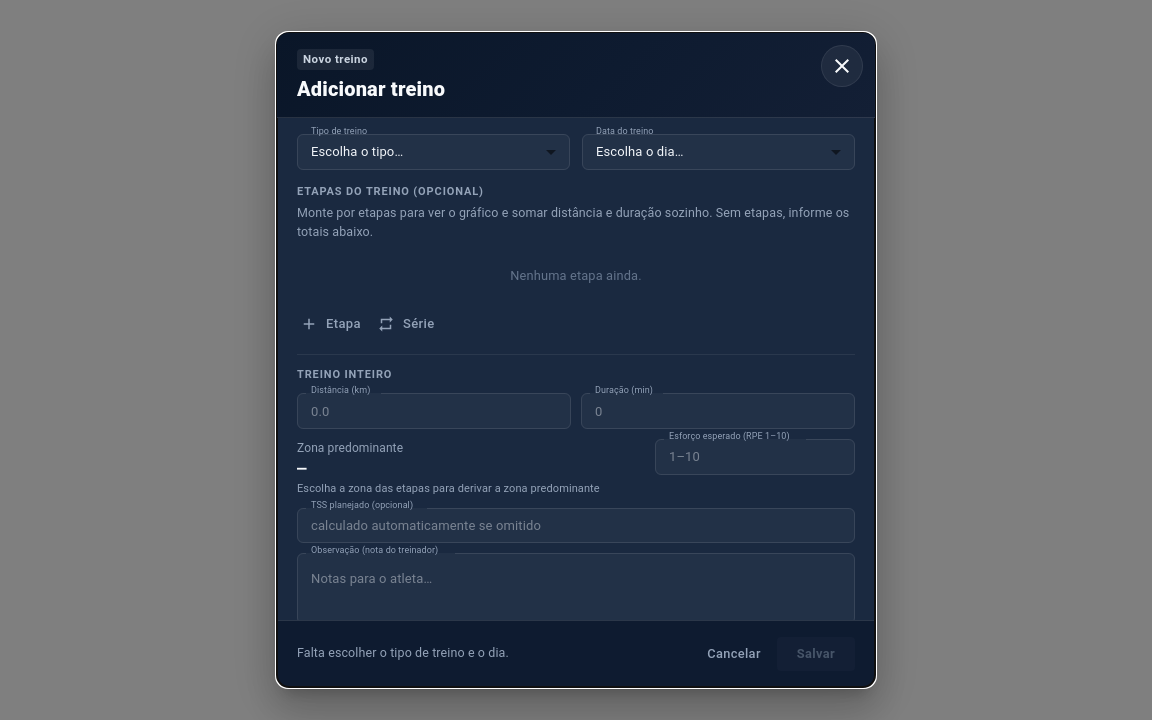
TreinoAddDialog › com etapas, distância e duração do treino somem (vêm da soma); sem etapas, aparecem
Expected: the number field with placeholder "0.0" is shown, x1=297 y1=393 x2=571 y2=429
Click the button "Etapa" at (331, 324), box x1=297 y1=309 x2=366 y2=340
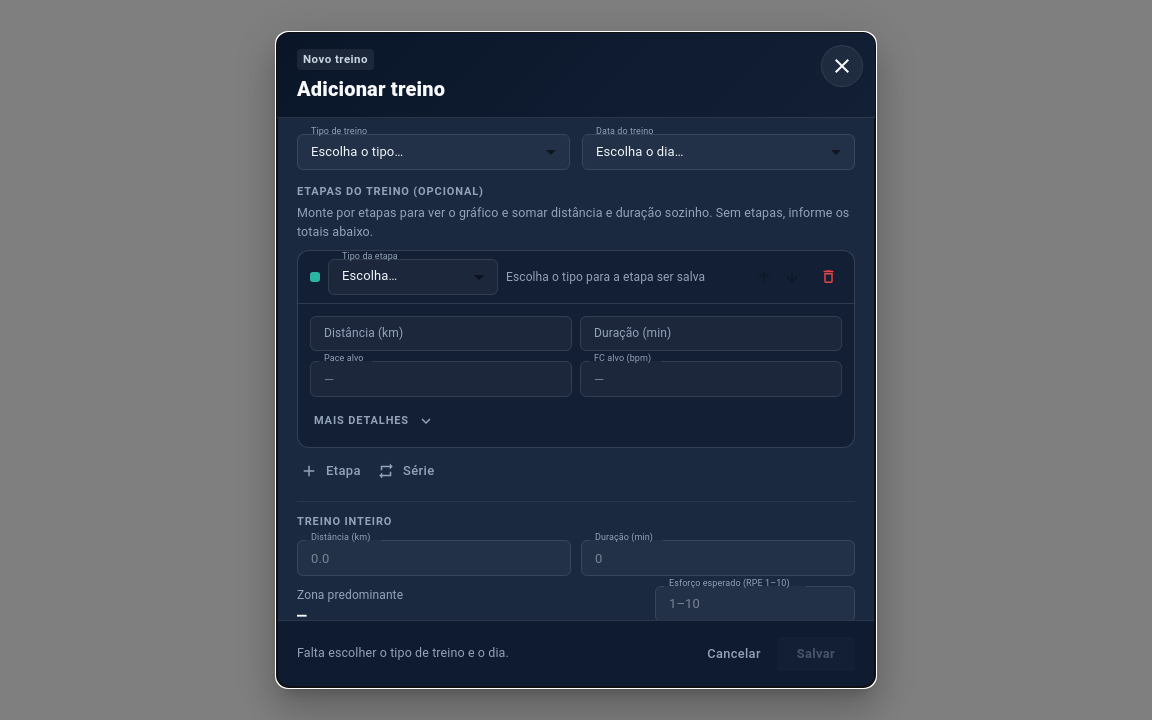
Select "Principal" in the dropdown named "Tipo da etapa 1" at (413, 277), box x1=328 y1=259 x2=498 y2=295
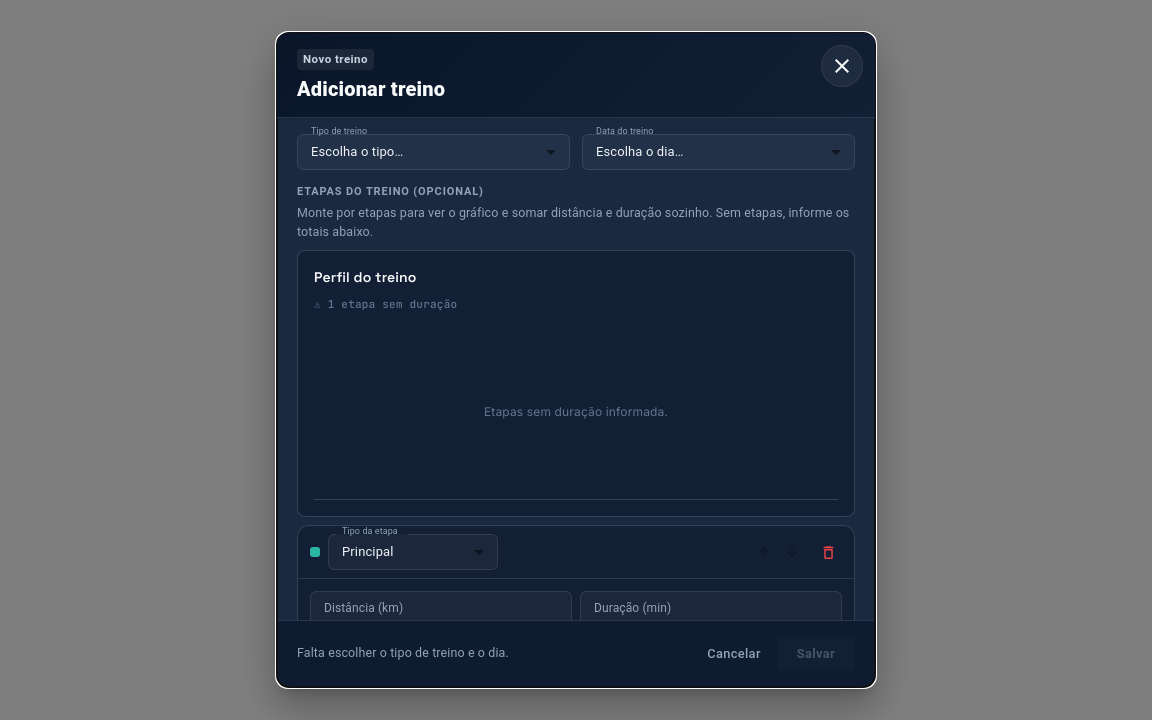
Expected: the icon with placeholder "0.0" is gone
